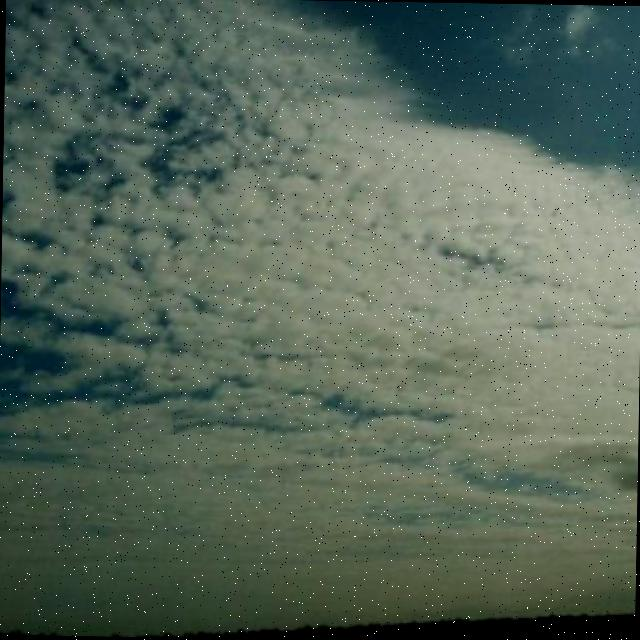Sc: (1, 6, 640, 459)
